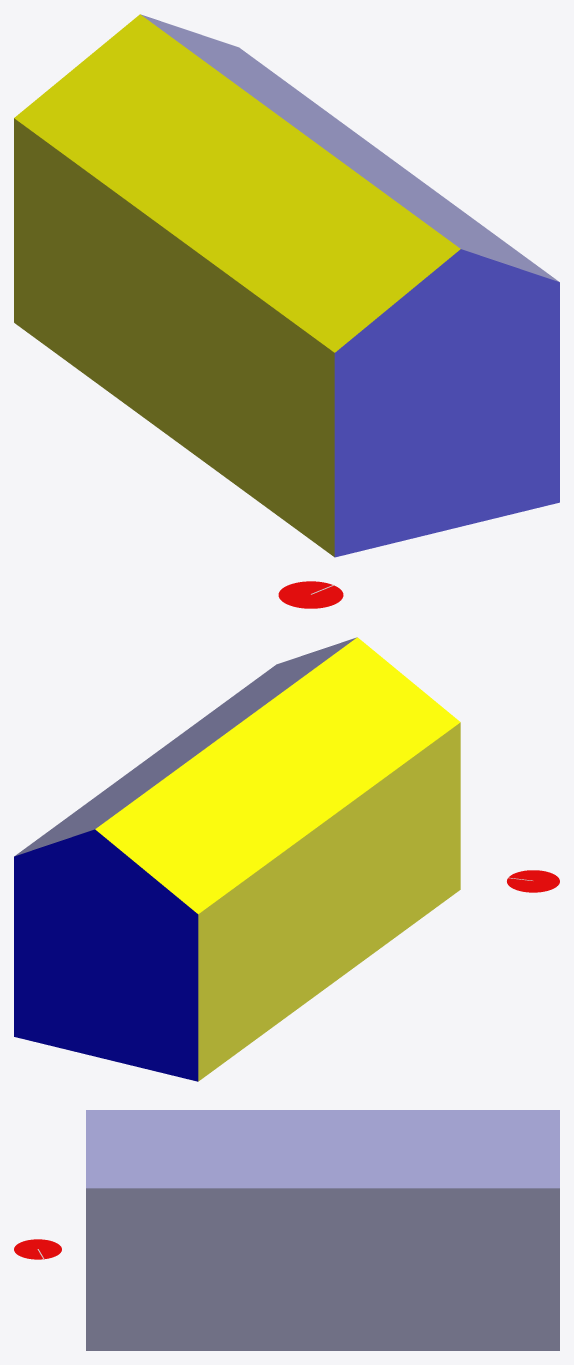
The model's file is result.glb.
3 views of the same model, one above another, from view 1: azimuth 30°, elevation 25°; view 2: azimuth 150°, elevation 25°; view 3: azimuth 270°, elevation 25° (orthographic). The views are drawn at different scales.
Visible parts, largest first — view 1: d7bfb165-774e-4948-83a5-dbb31649bfe0__undefined, c4cfd6b6-cf33-47cf-8eb6-56b7670cd121__undefined, 8317ac59-3987-4539-8702-5c333f8e6a31__undefined, 29f3b36c-be07-4b5e-91e7-061ab41921a6__undefined, 5606d380-d29a-4aa7-8c26-bb58d8b94644__Circle; view 2: d7bfb165-774e-4948-83a5-dbb31649bfe0__undefined, c4cfd6b6-cf33-47cf-8eb6-56b7670cd121__undefined, e8acd3d8-12b9-490c-9b48-b8eb16c3119f__undefined, 29f3b36c-be07-4b5e-91e7-061ab41921a6__undefined, 5606d380-d29a-4aa7-8c26-bb58d8b94644__Circle; view 3: f9a5beab-f963-411d-82ce-6199f4e251c6__undefined, 29f3b36c-be07-4b5e-91e7-061ab41921a6__undefined, 5606d380-d29a-4aa7-8c26-bb58d8b94644__Circle.
Boxes of the visible parts, <box> form: d7bfb165-774e-4948-83a5-dbb31649bfe0__undefined: <box>14,118,334,556</box>; c4cfd6b6-cf33-47cf-8eb6-56b7670cd121__undefined: <box>14,14,460,352</box>; 8317ac59-3987-4539-8702-5c333f8e6a31__undefined: <box>334,249,559,557</box>; 29f3b36c-be07-4b5e-91e7-061ab41921a6__undefined: <box>141,14,558,281</box>; 5606d380-d29a-4aa7-8c26-bb58d8b94644__Circle: <box>278,581,343,608</box>; d7bfb165-774e-4948-83a5-dbb31649bfe0__undefined: <box>198,722,460,1081</box>; c4cfd6b6-cf33-47cf-8eb6-56b7670cd121__undefined: <box>95,637,460,914</box>; e8acd3d8-12b9-490c-9b48-b8eb16c3119f__undefined: <box>14,829,198,1081</box>; 29f3b36c-be07-4b5e-91e7-061ab41921a6__undefined: <box>14,637,356,856</box>; 5606d380-d29a-4aa7-8c26-bb58d8b94644__Circle: <box>507,870,559,892</box>; f9a5beab-f963-411d-82ce-6199f4e251c6__undefined: <box>86,1188,559,1350</box>; 29f3b36c-be07-4b5e-91e7-061ab41921a6__undefined: <box>86,1110,559,1188</box>; 5606d380-d29a-4aa7-8c26-bb58d8b94644__Circle: <box>14,1239,61,1259</box>.
Bounding box in the file's own units: 550 × 471 × 1137.
